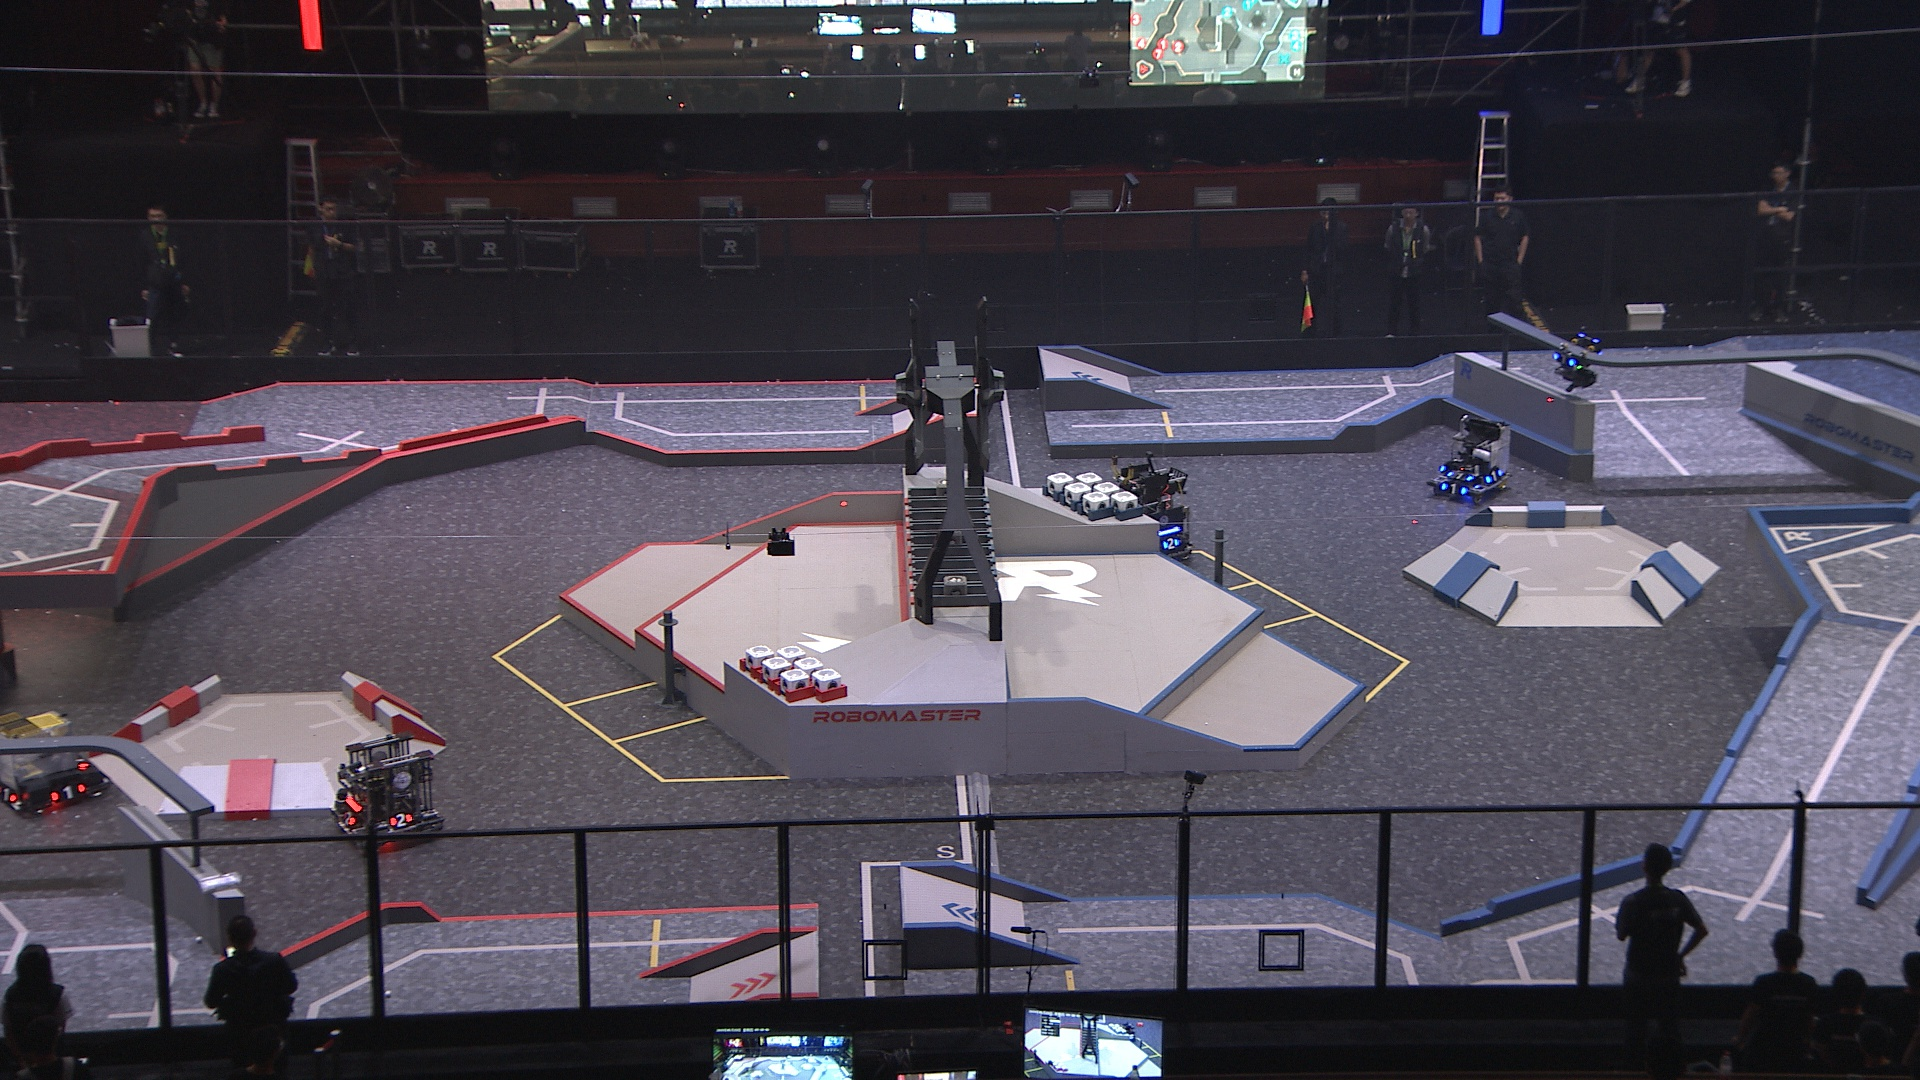armor: (51, 785, 84, 802), (1448, 469, 1474, 485), (386, 811, 413, 827), (1555, 351, 1578, 367), (0, 785, 17, 803), (1443, 483, 1466, 496), (1162, 534, 1182, 550), (1484, 469, 1505, 484), (340, 808, 353, 828), (76, 752, 90, 770)
car: (330, 731, 447, 856), (1109, 458, 1199, 562), (1428, 417, 1513, 502)
watcher: (1553, 332, 1604, 392)
